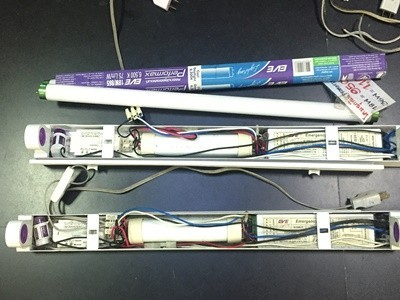Light_bulb: (35, 83, 382, 127)
